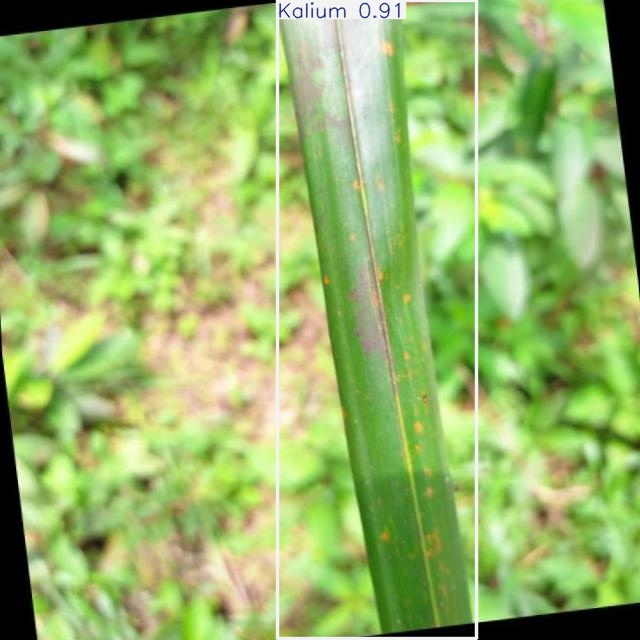Kalium: (277, 0, 477, 638)
